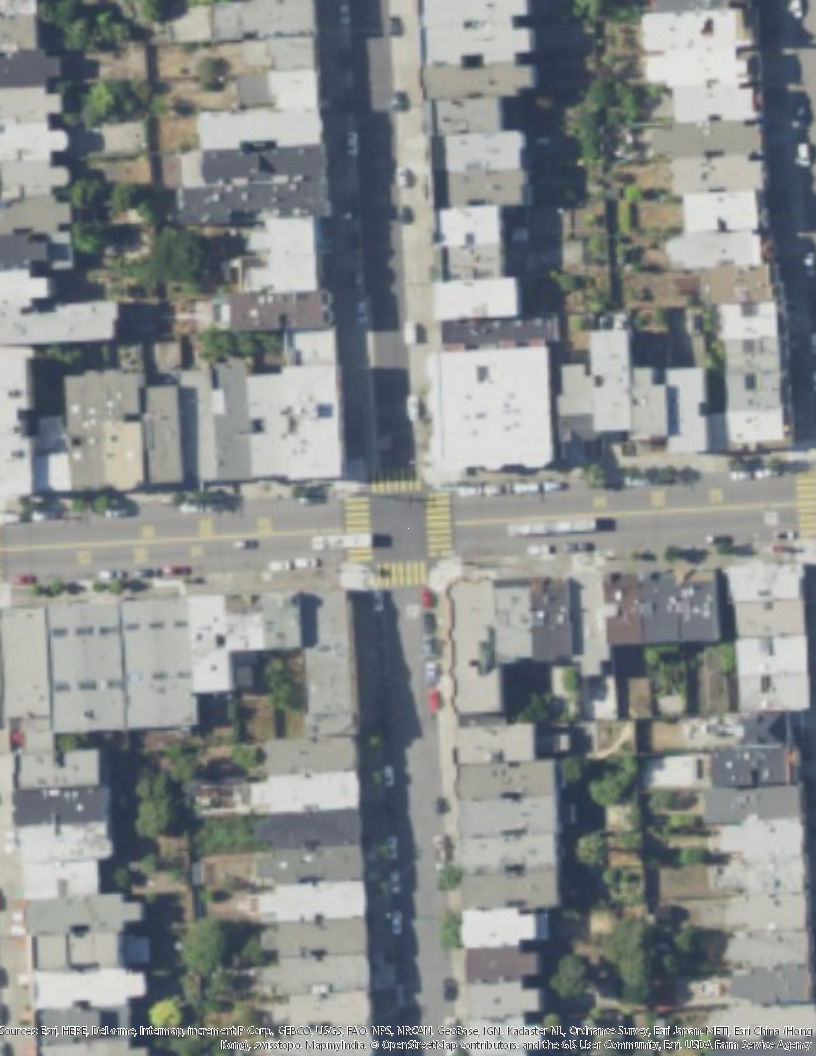zebracross: (343, 498, 375, 563), (424, 494, 453, 560), (795, 465, 816, 541), (372, 463, 422, 493), (378, 560, 428, 587)
